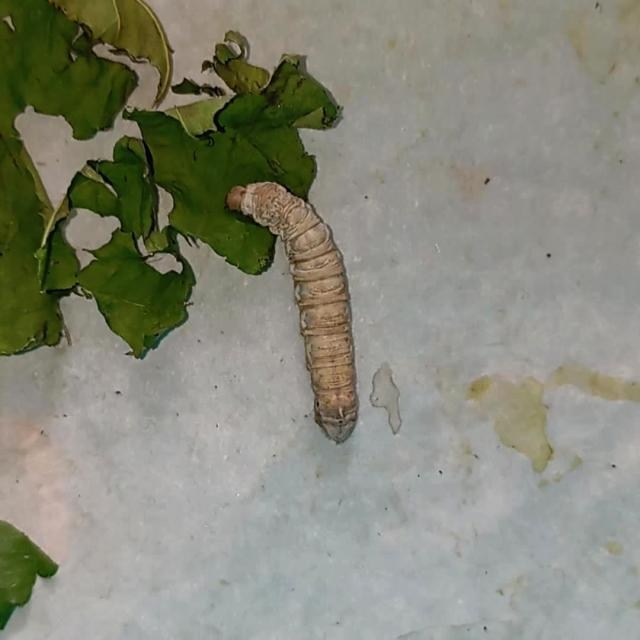Grasserie: (212, 150, 382, 443)
